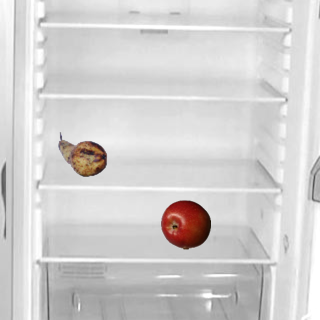Apple Braeburn: (160, 199, 210, 249)
Pear Abate: (57, 129, 107, 179)
